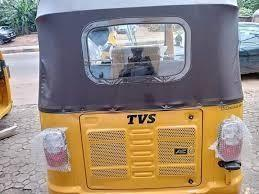keke: (27, 6, 256, 193)
